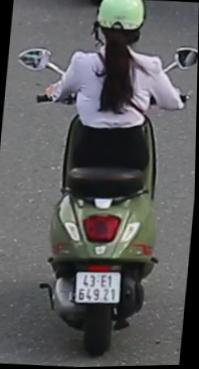LP: (74, 267, 124, 307)
